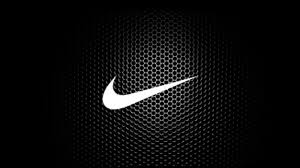nike: (95, 55, 211, 119)
